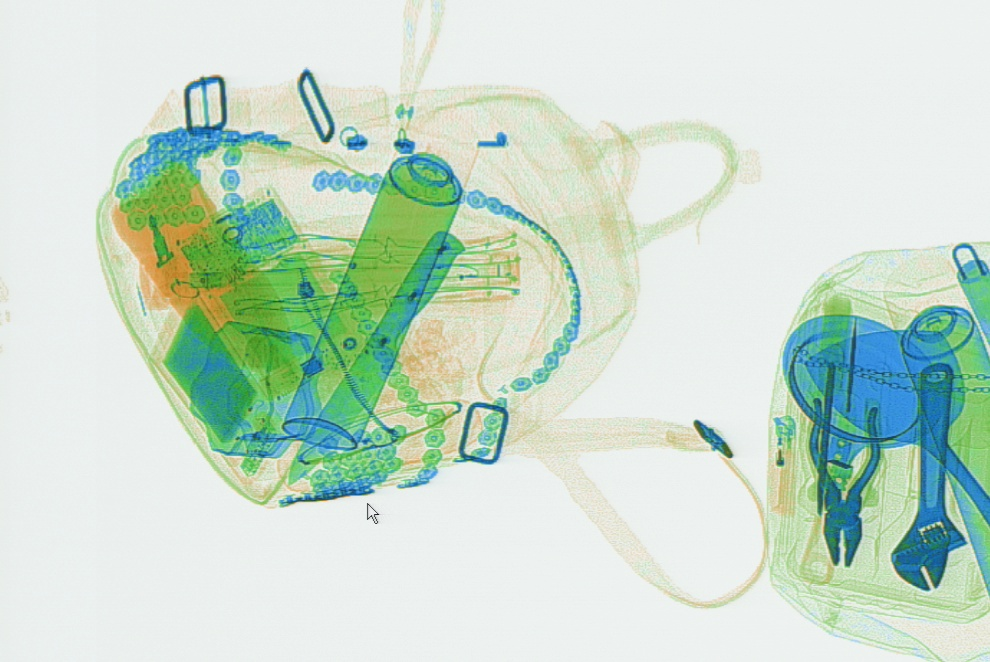knife: (281, 227, 458, 484)
lighter: (768, 413, 798, 518)
pressure: (280, 142, 468, 456), (894, 300, 988, 571)
